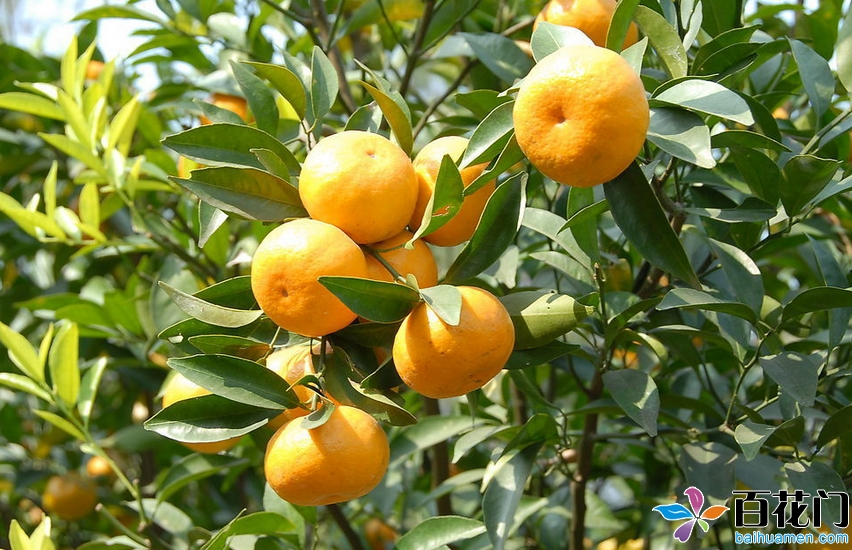orange: (512, 44, 647, 186), (250, 217, 367, 334), (392, 284, 513, 397), (298, 129, 416, 244), (265, 408, 388, 508), (408, 136, 509, 246), (346, 224, 438, 323), (261, 339, 358, 429), (164, 356, 257, 449), (527, 1, 641, 75)
